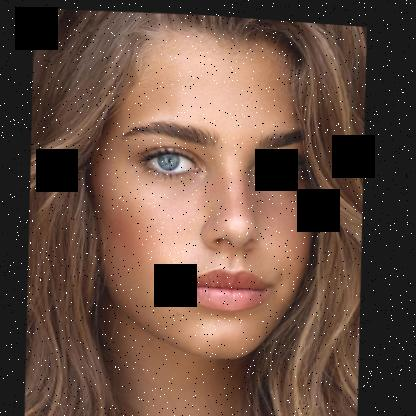Female: (78, 11, 332, 361)
